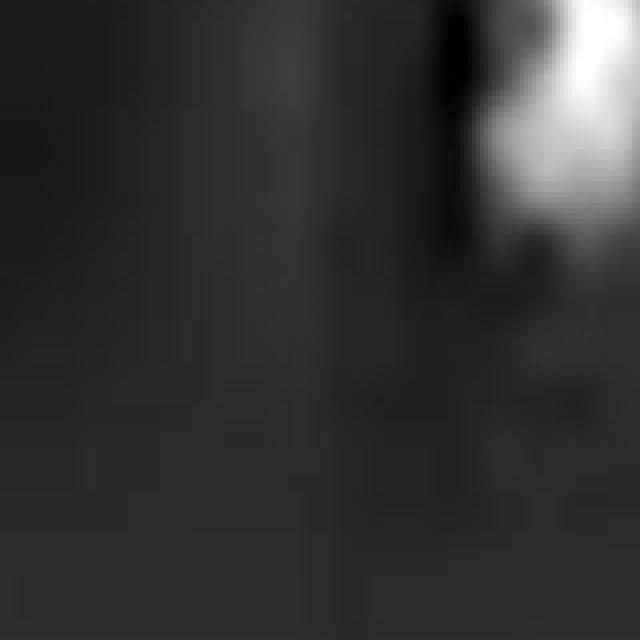person: (485, 1, 640, 268)
